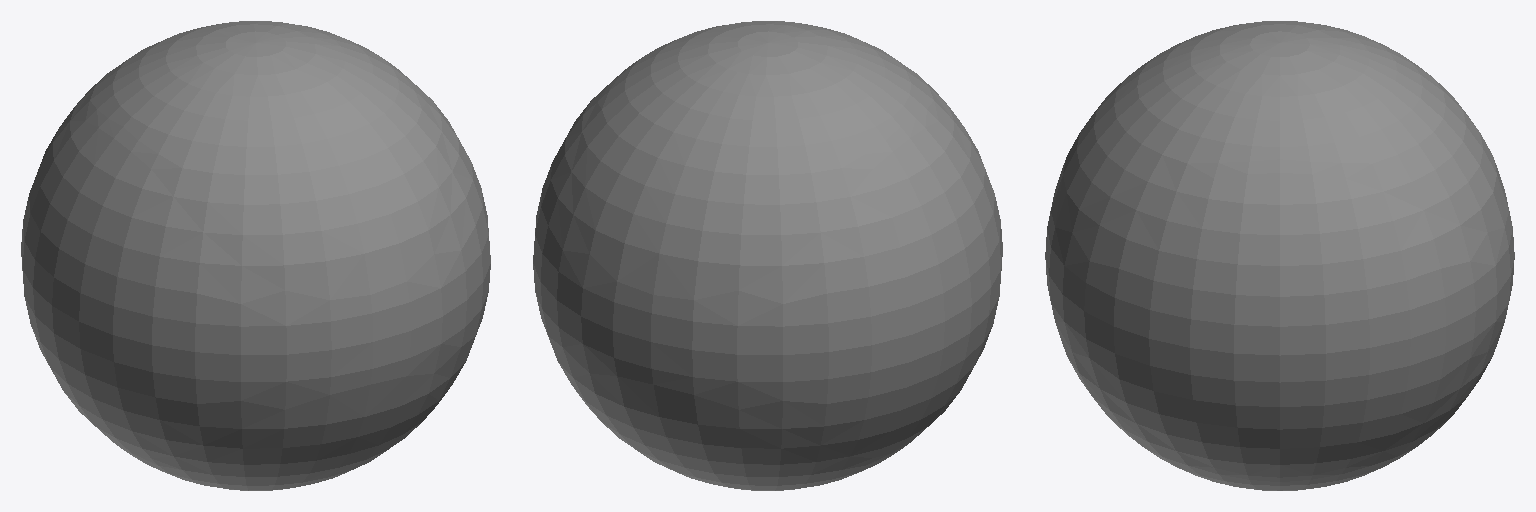
Rendered from BasketBall.obj.
The picture shows the model from 3 angles: view 1: azimuth 30°, elevation 25°; view 2: azimuth 150°, elevation 25°; view 3: azimuth 270°, elevation 25°; orthographic projection.
Visible parts, largest first — view 1: BasketBall; view 2: BasketBall; view 3: BasketBall.
Part boxes in pixels (x1,y1,x2,y2): BasketBall: (21,21,490,490); BasketBall: (533,21,1002,490); BasketBall: (1045,21,1514,490).
Size of the model in its own units: 23 by 22.96 by 22.93.